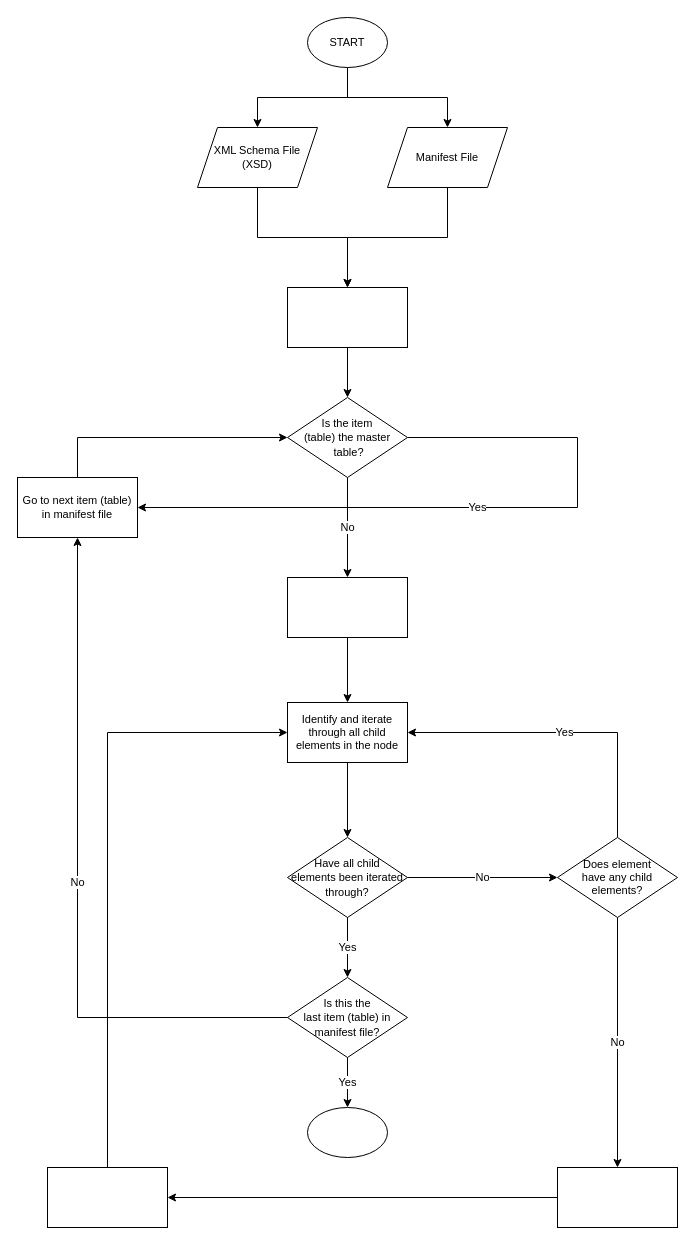
Some shapes in this 695 by 1245 pixel diagram are drawn without their labels. The box of each missing label's shape, as (x1, y1, x2, y2) in pixels:
Element is a column. Extract attributes of node: (556, 1166, 678, 1228)
END: (306, 1106, 388, 1158)
For all items (tables) in the manifest file: (286, 286, 408, 348)
Navigate to the node in the XSD file where the item (table) is located: (286, 576, 408, 638)
Store element name and attributes as column configuration for current sub table: (46, 1166, 168, 1228)
